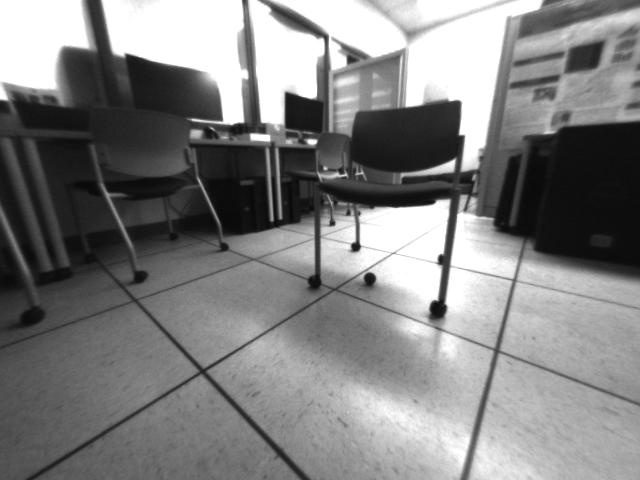dogtoy: (358, 265, 383, 289)
